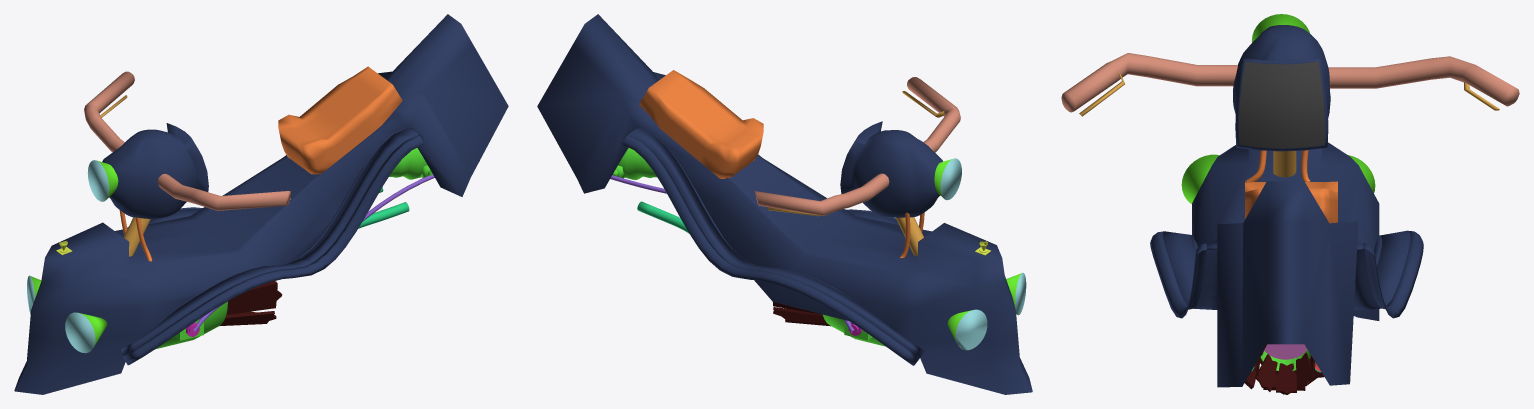
File: Jetbike_final.fbx
The picture shows the model from 3 angles, left to right: view 1: azimuth 30°, elevation 25°; view 2: azimuth 150°, elevation 25°; view 3: azimuth 270°, elevation 25°; orthographic projection. The views are drawn at different scales.
Parts seen in each view (by area): view 1: Body Shell, Console, Big Engine, Small Engine, BezierCurve; view 2: Body Shell, Console, Big Engine, Small Engine, BezierCurve; view 3: Body Shell, Console, Small Engine.
Boxes of the visible parts, <box> form: Body Shell: <box>14,14,508,394</box>; Console: <box>27,71,290,353</box>; Big Engine: <box>155,281,282,349</box>; Small Engine: <box>193,148,434,331</box>; BezierCurve: <box>358,187,409,228</box>; Body Shell: <box>537,14,1032,394</box>; Console: <box>754,77,1026,350</box>; Big Engine: <box>773,302,885,346</box>; Small Engine: <box>610,148,854,332</box>; BezierCurve: <box>637,201,689,233</box>; Body Shell: <box>1150,142,1423,387</box>; Console: <box>1061,14,1519,203</box>; Small Engine: <box>1254,344,1315,394</box>.
Bounding box in the file's own units: 1008 × 524 × 590.
